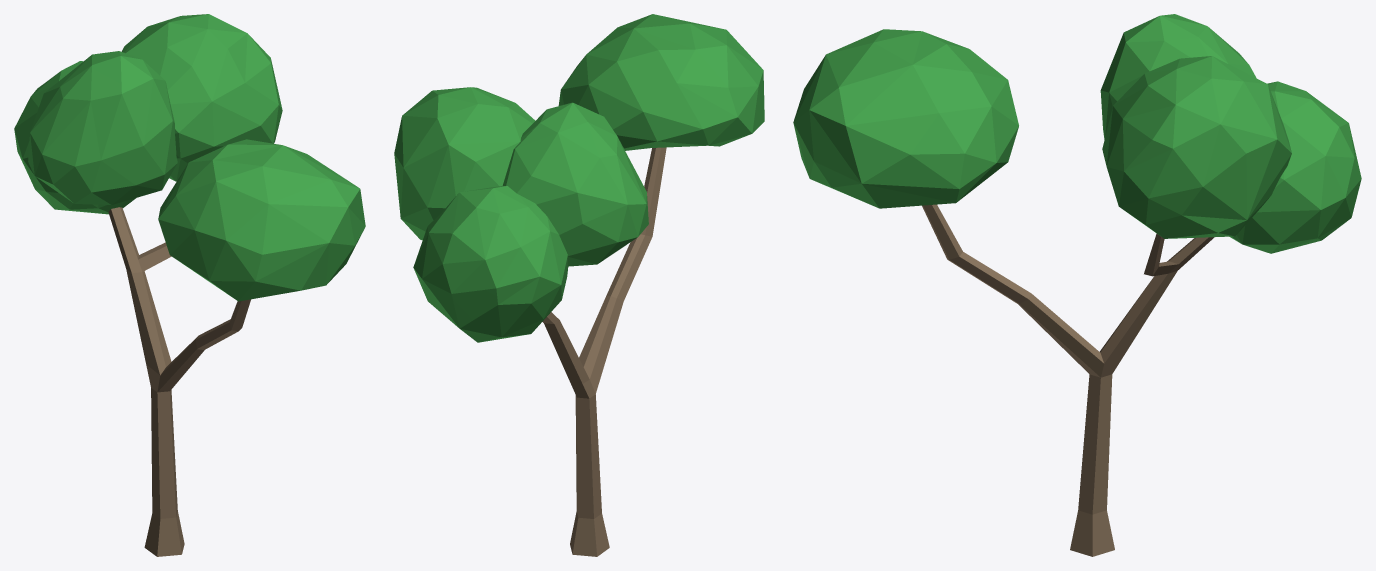
Rendered from tree_b_2.FBX.
The picture shows the model from 3 angles, left to right: view 1: azimuth 30°, elevation 25°; view 2: azimuth 150°, elevation 25°; view 3: azimuth 270°, elevation 25°; orthographic projection. The views are drawn at different scales.
Parts seen in each view (by area): view 1: tree_b_2; view 2: tree_b_2; view 3: tree_b_2.
Part boxes in pixels (x1=…): tree_b_2: x1=14, y1=14, x2=365, y2=556; tree_b_2: x1=394, y1=14, x2=764, y2=556; tree_b_2: x1=793, y1=14, x2=1361, y2=556.
Bounding box in the file's own units: 4.23 × 8.15 × 8.02.
